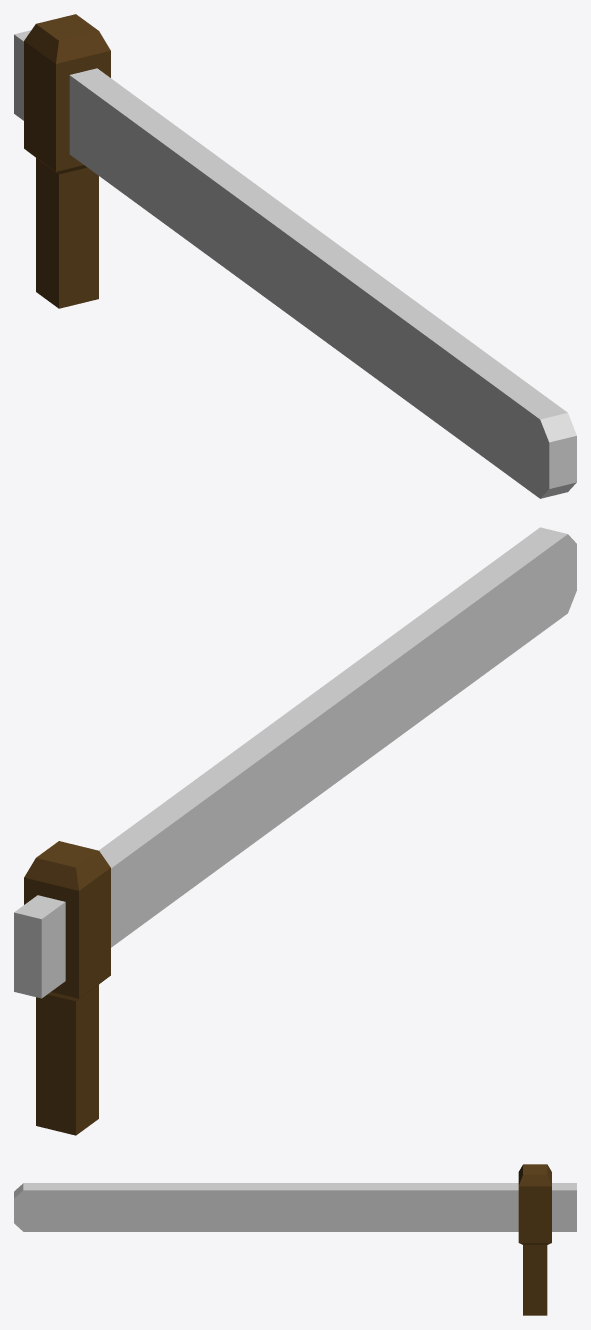
Rendered from gate.glb.
3 renders of one model, top to bottom at view 1: azimuth 30°, elevation 25°; view 2: azimuth 150°, elevation 25°; view 3: azimuth 270°, elevation 25°, orthographic. The views are drawn at different scales.
Visible parts, largest first — view 1: Gate; view 2: Gate; view 3: Gate.
Boxes of the visible parts, x1,y1,x2,y2 form: Gate: (14, 14, 576, 498); Gate: (14, 527, 576, 1135); Gate: (14, 1164, 576, 1315).
Size of the model in its own units: 0.8122 by 3.78 by 13.68.
